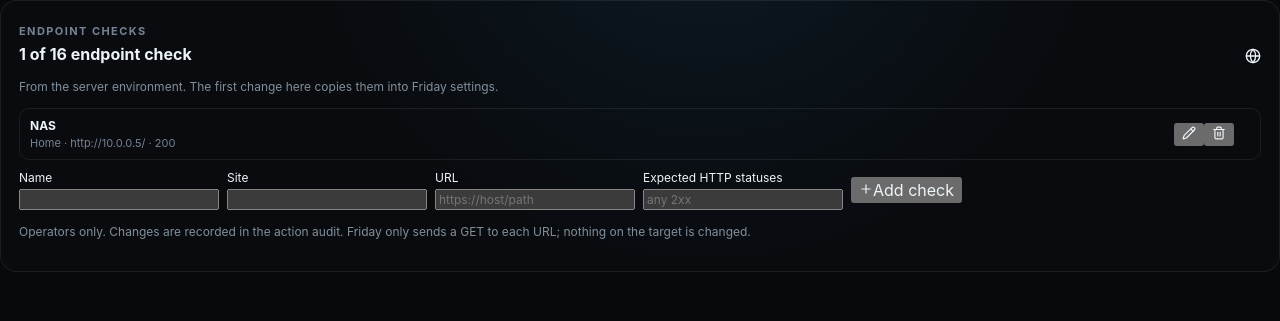
EndpointChecksPanel › edits and deletes a check
This screenshot has width=1280, height=321.
Click the button named "Edit NAS".
click(1189, 134)  # box [1174,123,1204,146]
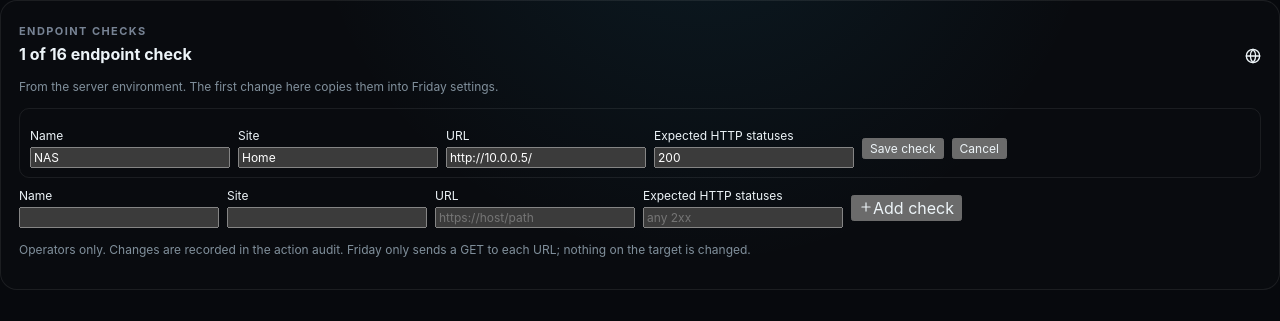
Replace the text in the 1st field labelled "Name" with "NAS web" at (130, 158), box [30,147,230,168]
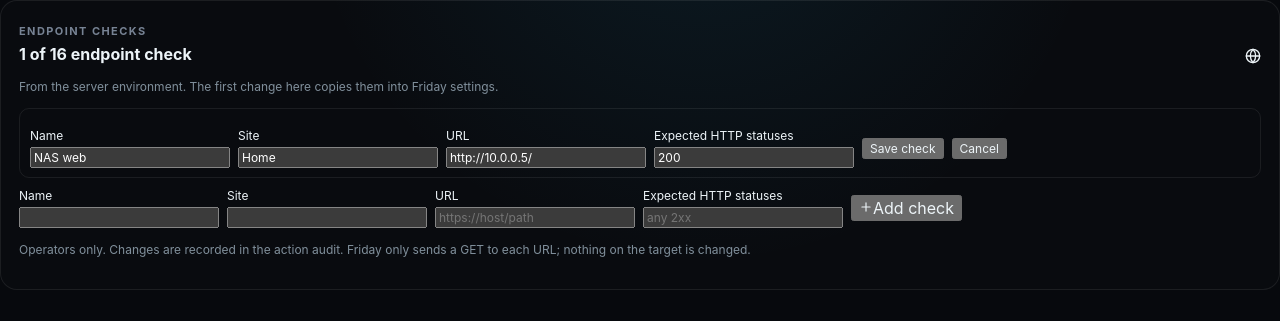
Clear the 1st field labelled "Expected HTTP statuses" at (754, 158), box [654,147,854,168]
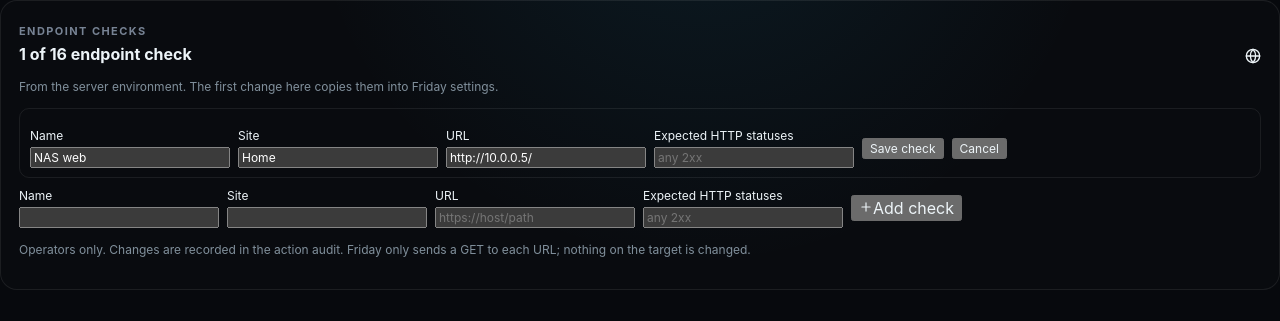
Click the button "Save check".
click(903, 148)  # box [862,138,944,159]
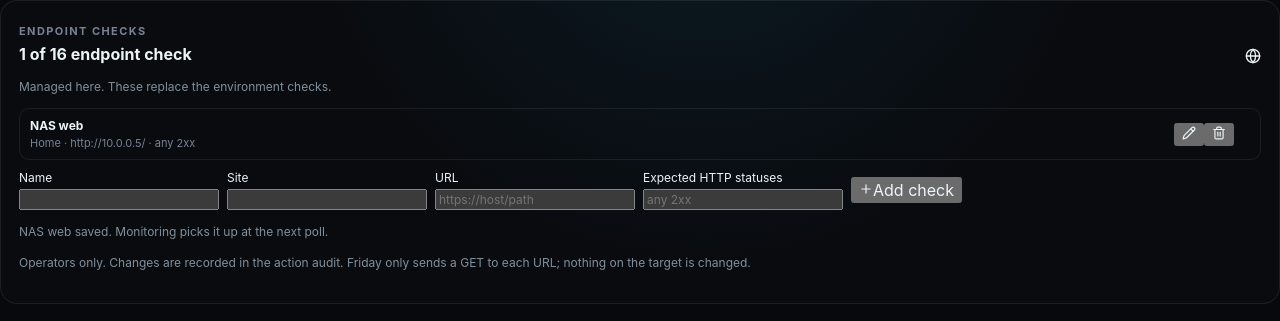
Now the text "NAS web saved. Monitoring picks it up at the next poll." is shown, box [19,224,328,239]
Click the button named "Delete NAS web".
click(1219, 134)  # box [1204,123,1234,146]
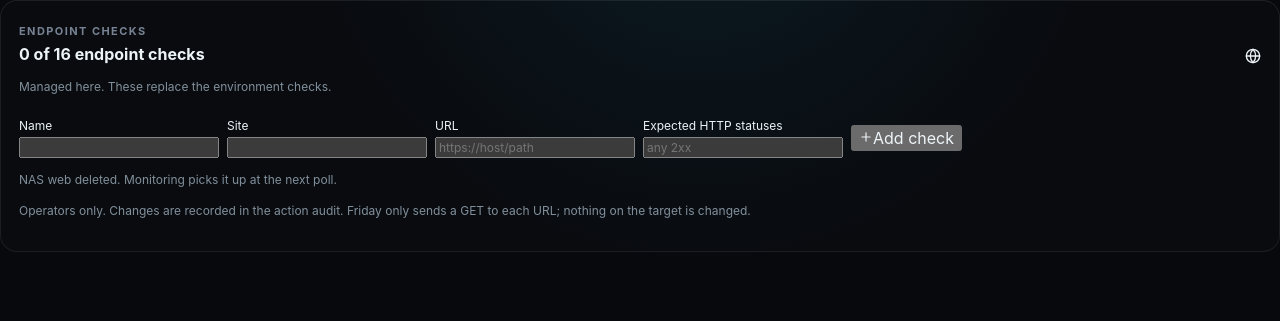
Now the text "NAS web deleted. Monitoring picks it up at the next poll." is shown, box [19,172,337,187]
